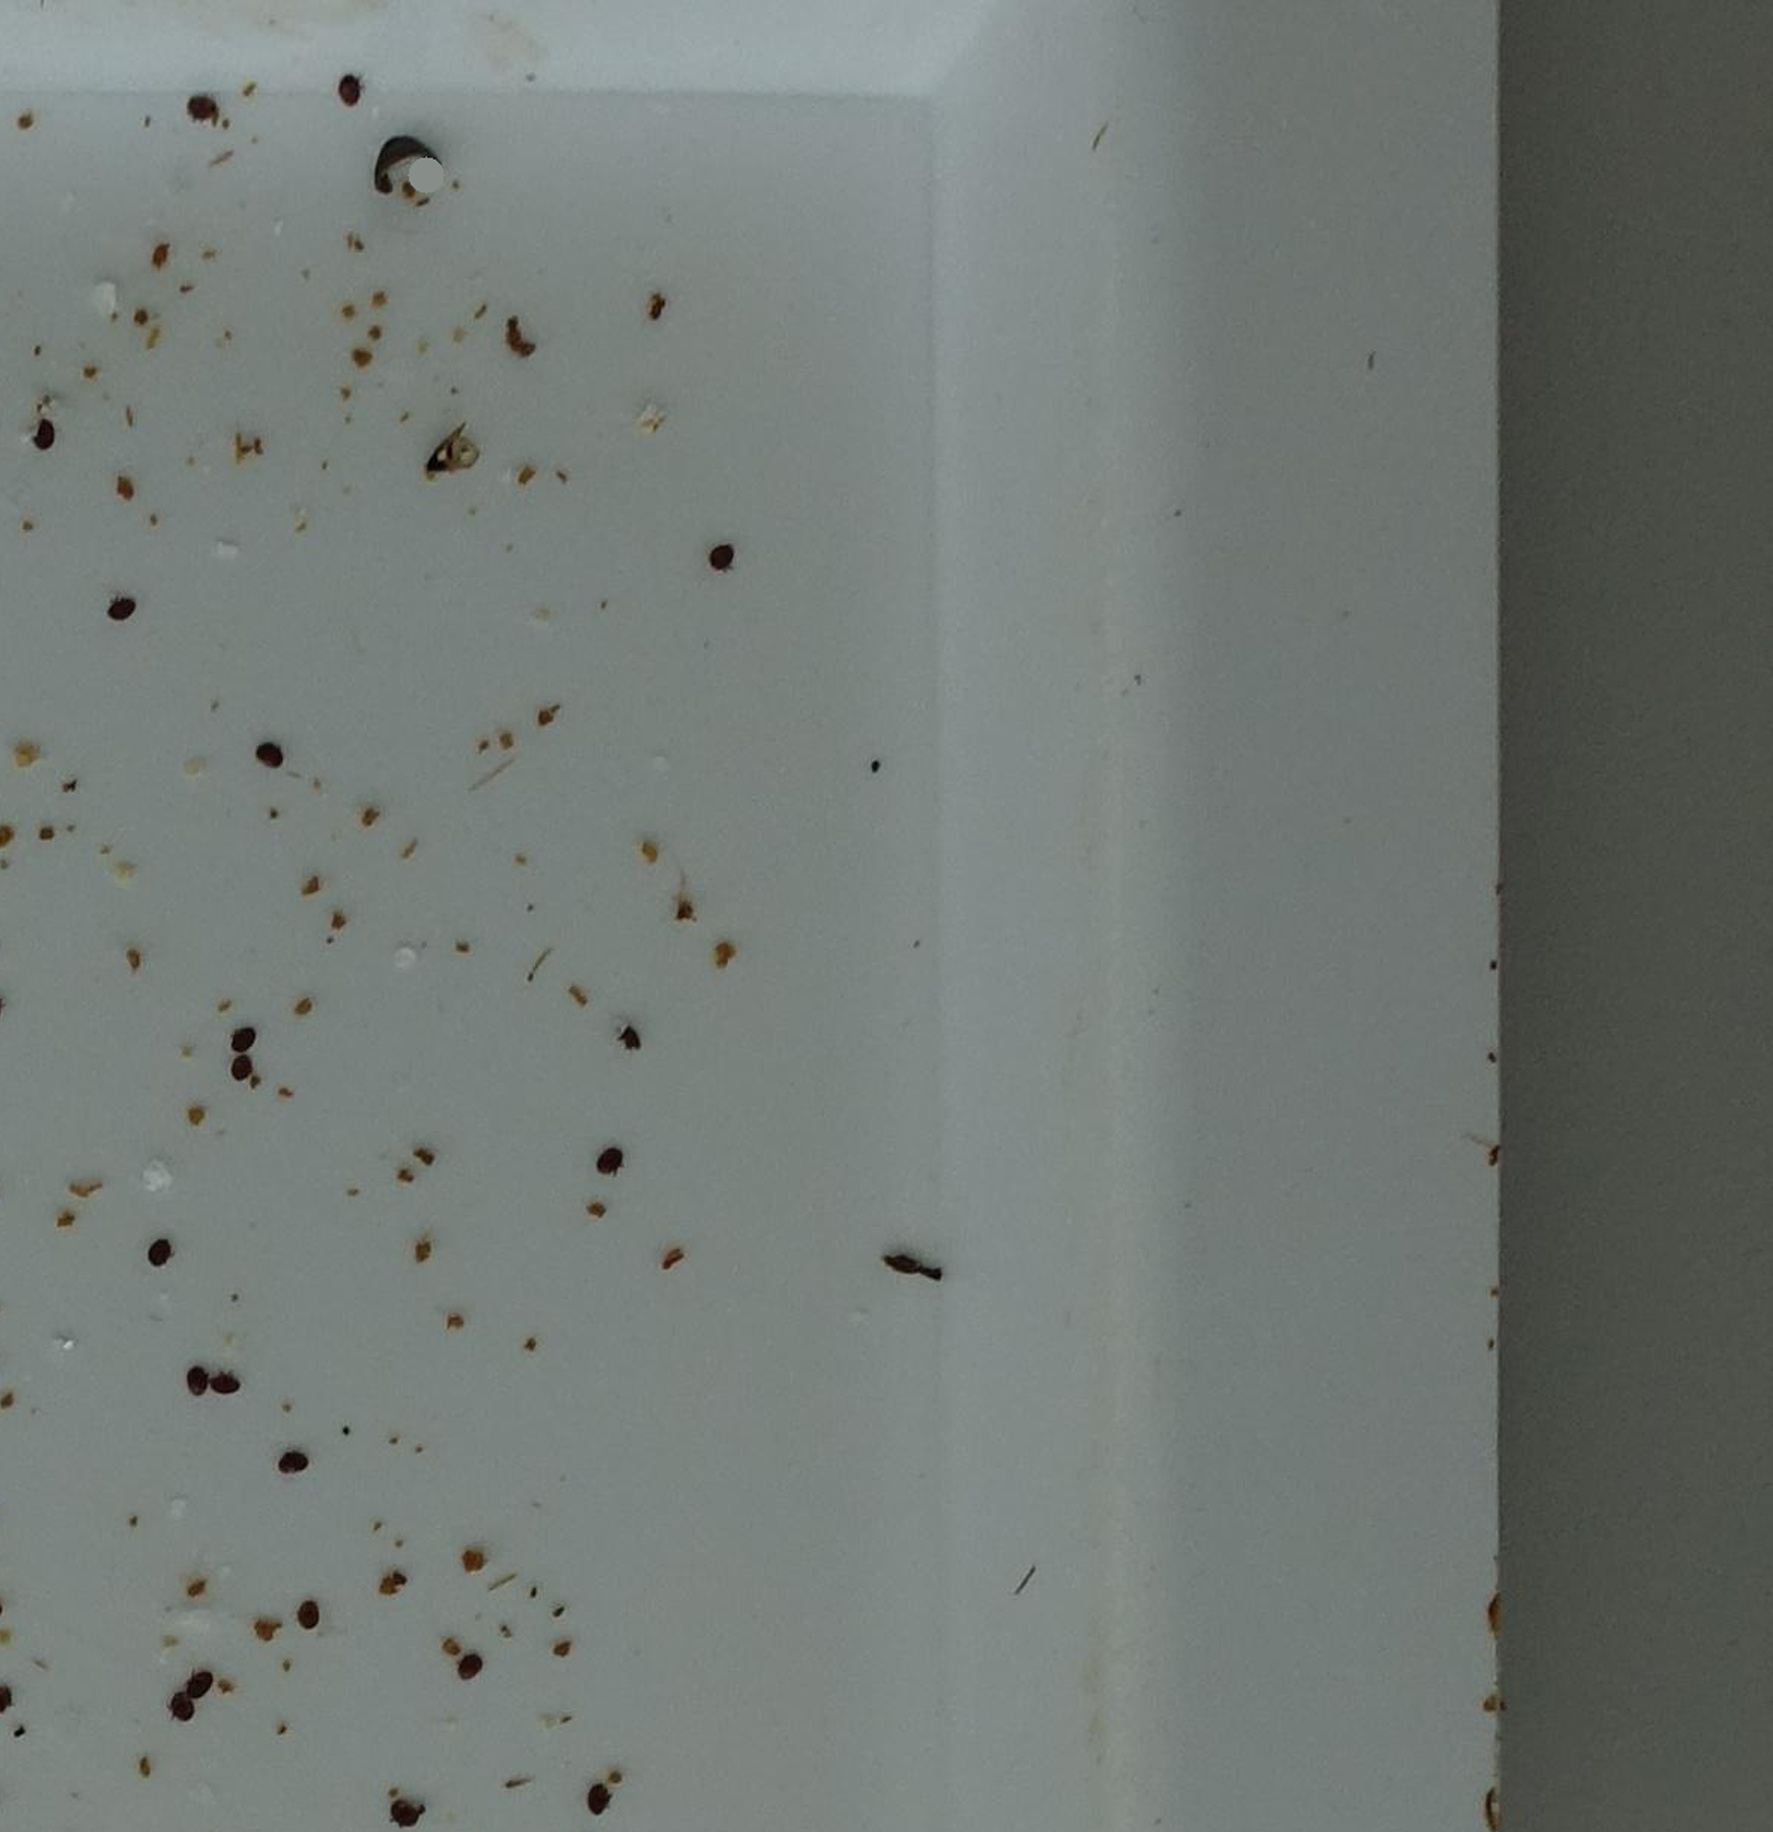Varroa: (608, 1016, 651, 1060), (702, 541, 738, 577), (183, 1667, 218, 1703), (276, 1448, 311, 1482), (453, 1650, 486, 1685), (337, 75, 370, 110), (204, 1374, 239, 1407), (182, 1361, 213, 1395), (101, 592, 132, 625), (190, 93, 221, 126), (389, 1796, 420, 1829), (291, 1596, 322, 1629), (232, 1021, 263, 1053), (168, 1696, 200, 1729), (595, 1150, 626, 1181), (257, 743, 288, 774), (582, 1786, 613, 1817), (222, 1040, 254, 1071), (28, 419, 57, 450), (236, 1057, 265, 1088), (147, 1242, 175, 1273)
